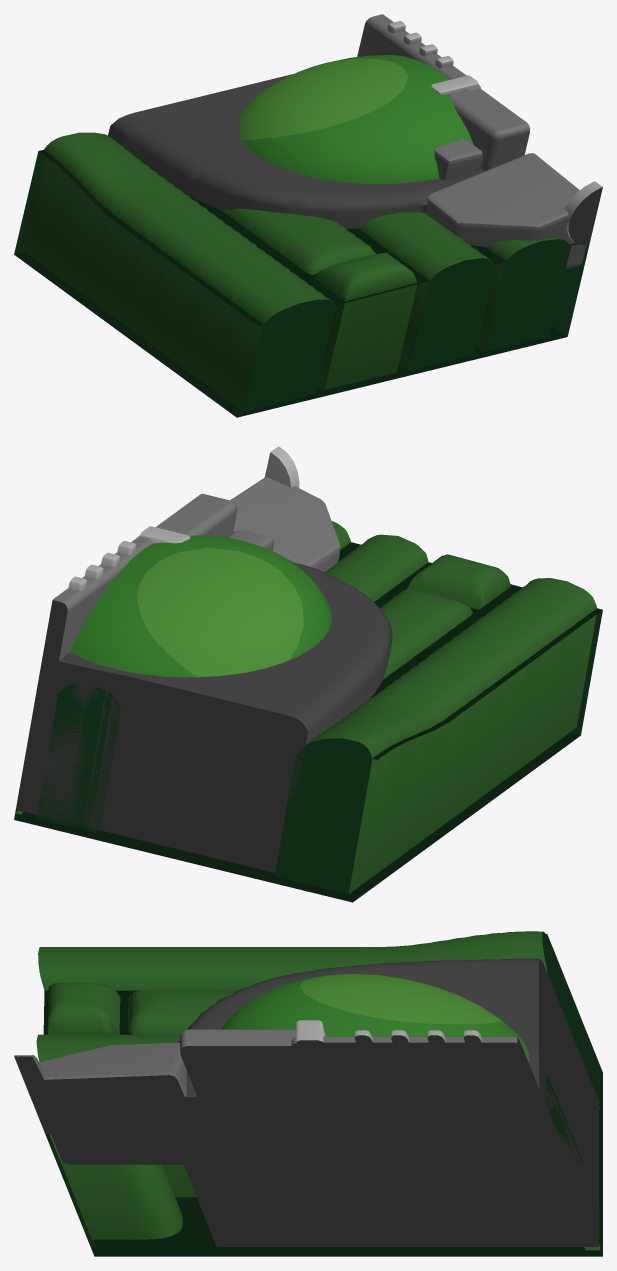
Rendered from green_shell_161.glb.
3 renders of one model, top to bottom at view 1: azimuth 30°, elevation 25°; view 2: azimuth 150°, elevation 25°; view 3: azimuth 270°, elevation 25°, orthographic. The views are drawn at different scales.
Visible parts, largest first — view 1: green_shell_161; view 2: green_shell_161; view 3: green_shell_161.
Boxes of the visible parts, x1=… form: green_shell_161: x1=14, y1=14, x2=602, y2=417; green_shell_161: x1=14, y1=446, x2=602, y2=902; green_shell_161: x1=14, y1=931, x2=602, y2=1256.
Bounding box in the file's own units: 24 × 13.45 × 32.43.
